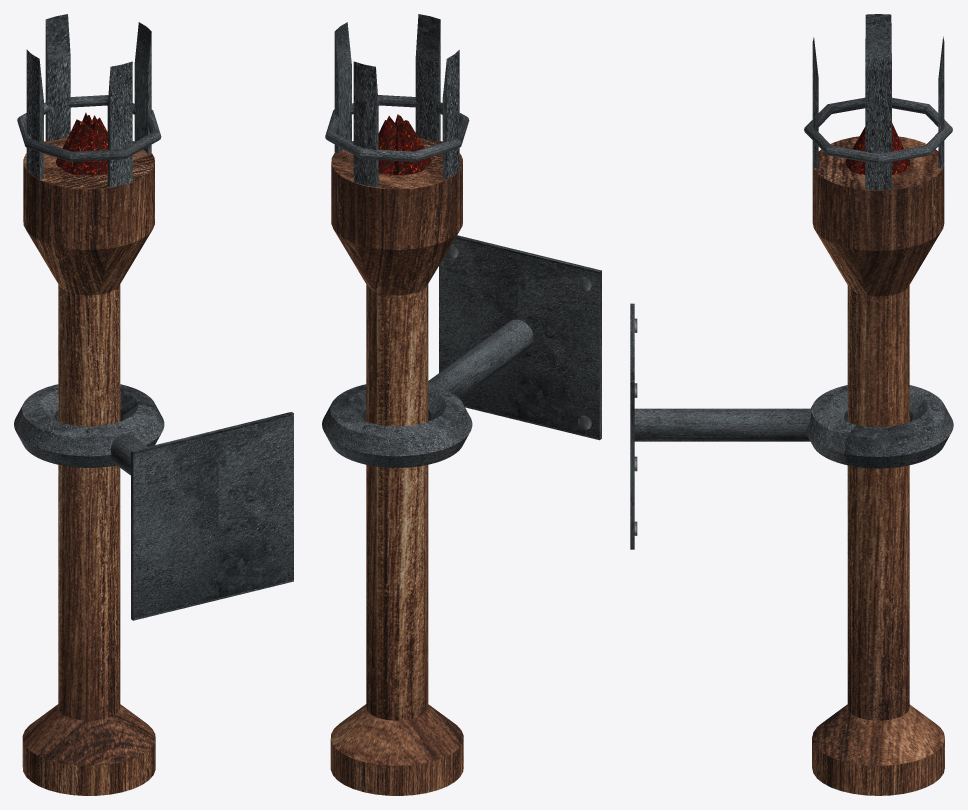
Rendered from torch_main.fbx.
3 renders of one model, left to right at view 1: azimuth 30°, elevation 25°; view 2: azimuth 150°, elevation 25°; view 3: azimuth 270°, elevation 25°, orthographic.
Parts seen in each view (by area): view 1: Cylinder, Cube, holder, spike2.001, spike1.001, Torus.002, coal, spike2, spike1, arm; view 2: Cylinder, Cube, holder, arm, spike1.001, spike2.001, Torus.002, spike2, coal, spike1; view 3: Cylinder, holder, arm, spike2, Torus.002, spike1, Cube, coal, spike1.001, spike2.001.
Part boxes in pixels (x1=…): Cylinder: x1=22, y1=137, x2=155, y2=795; Cube: x1=131, y1=412, x2=293, y2=620; holder: x1=14, y1=384, x2=164, y2=467; spike2.001: x1=45, y1=14, x2=70, y2=141; spike1.001: x1=107, y1=61, x2=132, y2=187; Torus.002: x1=17, y1=95, x2=161, y2=161; coal: x1=56, y1=112, x2=107, y2=175; spike2: x1=134, y1=22, x2=151, y2=153; spike1: x1=26, y1=49, x2=43, y2=179; arm: x1=111, y1=433, x2=147, y2=475; Cylinder: x1=330, y1=137, x2=463, y2=795; Cube: x1=439, y1=235, x2=601, y2=440; holder: x1=322, y1=384, x2=472, y2=467; arm: x1=428, y1=319, x2=533, y2=398; spike1.001: x1=415, y1=14, x2=440, y2=141; spike2.001: x1=353, y1=61, x2=378, y2=187; Torus.002: x1=325, y1=95, x2=469, y2=161; spike2: x1=334, y1=22, x2=351, y2=153; coal: x1=378, y1=114, x2=431, y2=175; spike1: x1=442, y1=50, x2=459, y2=179; Cylinder: x1=812, y1=136, x2=944, y2=795; holder: x1=805, y1=385, x2=953, y2=468; arm: x1=634, y1=408, x2=811, y2=441; spike2: x1=865, y1=69, x2=891, y2=190; Torus.002: x1=804, y1=97, x2=952, y2=164; spike1: x1=865, y1=14, x2=891, y2=100; Cube: x1=630, y1=303, x2=634, y2=549; coal: x1=845, y1=123, x2=910, y2=174; spike1.001: x1=812, y1=37, x2=818, y2=167; spike2.001: x1=938, y1=36, x2=944, y2=167.
Bounding box in the file's own units: 279 × 1205 × 486.
Materials: 4 (4 with a texture image).
